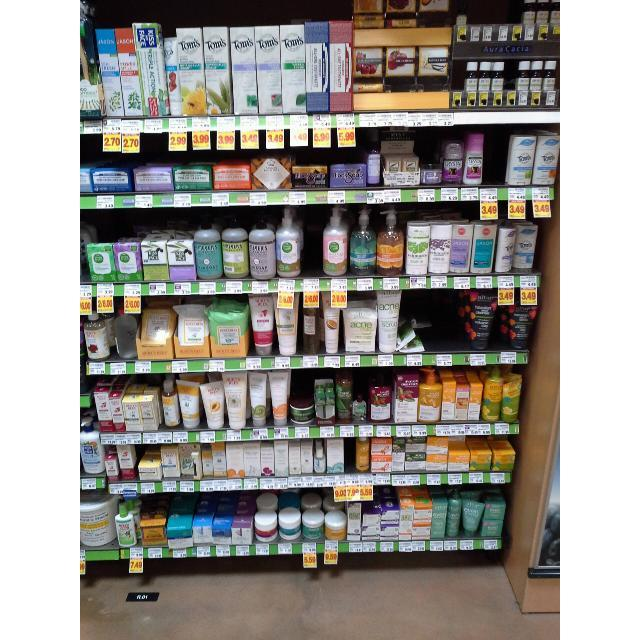empty: (426, 290, 460, 353), (302, 206, 322, 276), (484, 124, 506, 186), (344, 437, 356, 473)
